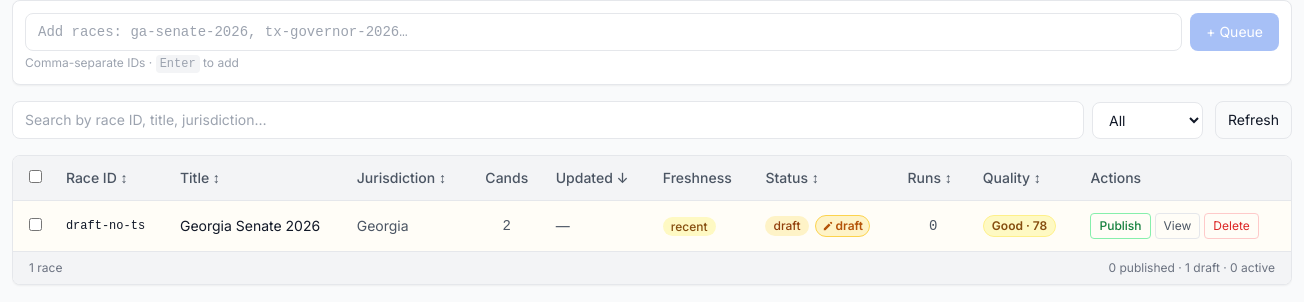
RacesTab status flow › includes draft-without-timestamp in bulk publish selection
Expected: the text "draft-no-ts" is shown, [66, 219, 145, 233]
Click the checkbox next to "draft-no-ts": (36, 224) [29, 218, 42, 231]
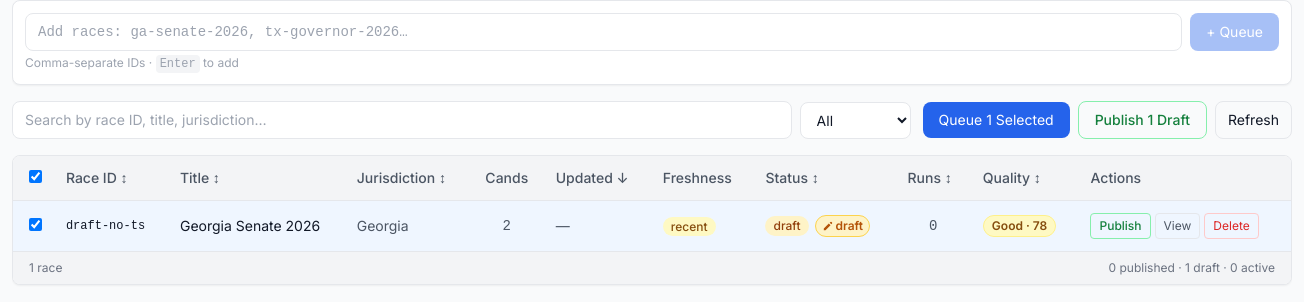
Result: the button "Publish 1 Draft" is shown at [1078, 101, 1207, 139]
